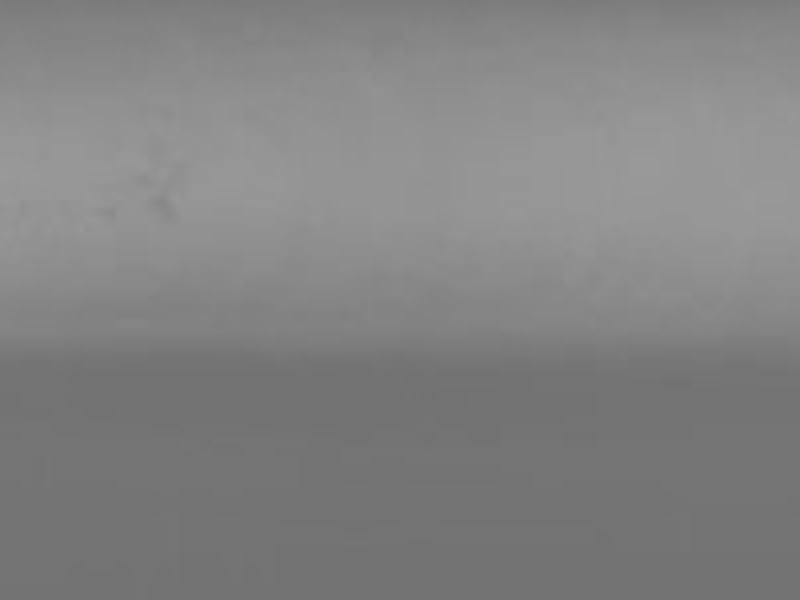defect: (150, 192, 177, 223)
